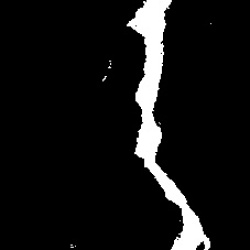crack: (129, 2, 210, 247)
